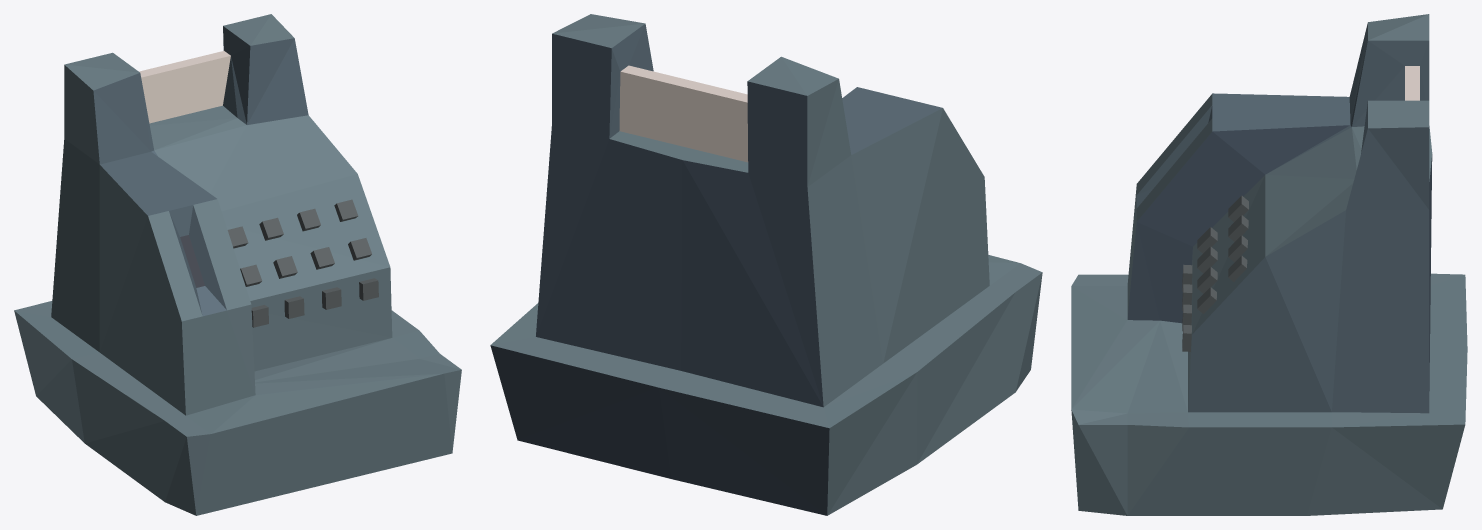
The model's file is cash_register.fbx.
The picture shows the model from 3 angles, left to right: view 1: azimuth 30°, elevation 25°; view 2: azimuth 150°, elevation 25°; view 3: azimuth 270°, elevation 25°; orthographic projection. The views are drawn at different scales.
Parts seen in each view (by area): view 1: cash_register; view 2: cash_register; view 3: cash_register.
Part boxes in pixels (x1,y1,x2,y2): cash_register: [14, 14, 461, 515]; cash_register: [490, 14, 1042, 515]; cash_register: [1071, 14, 1467, 515].
Size of the model in its own units: 37.15 by 40.63 by 39.39.
